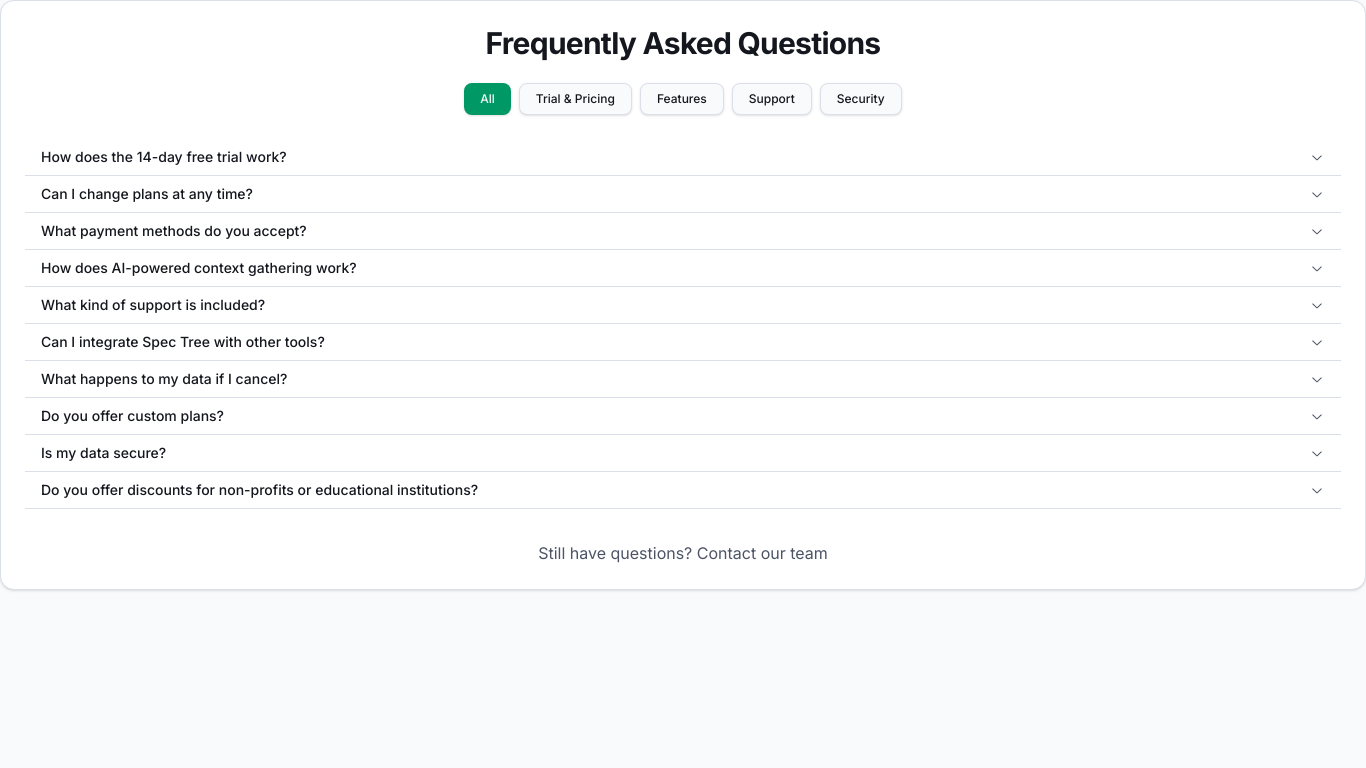
Test: PricingFAQ › filters FAQs when category is selected
Click the button "Security".
click(861, 99)  # box x1=820 y1=83 x2=902 y2=115
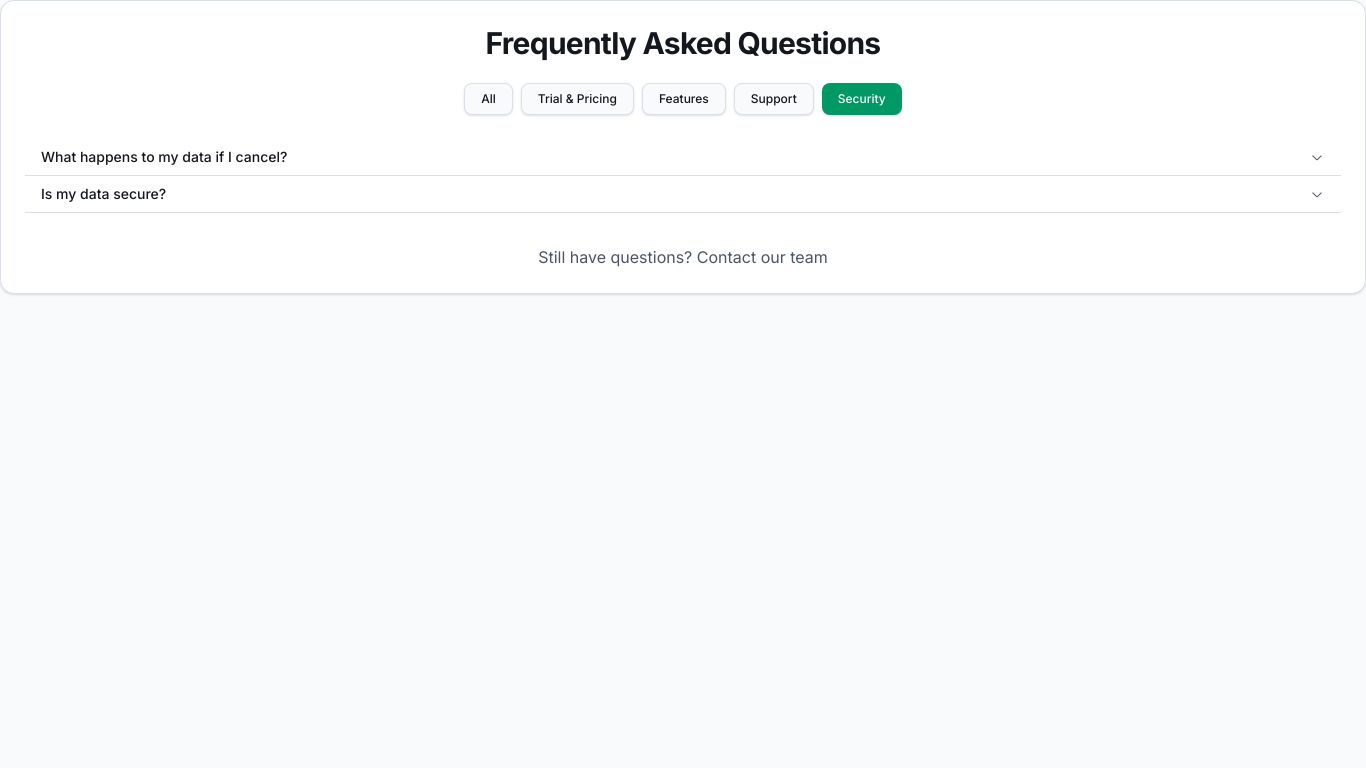
Expected: the button "What happens to my data if I cancel?" is shown, x1=25 y1=139 x2=1341 y2=175
Expected: the button "Is my data secure?" is shown, x1=25 y1=176 x2=1341 y2=212
Expected: the button "How does the 14-day free trial work?" is gone
